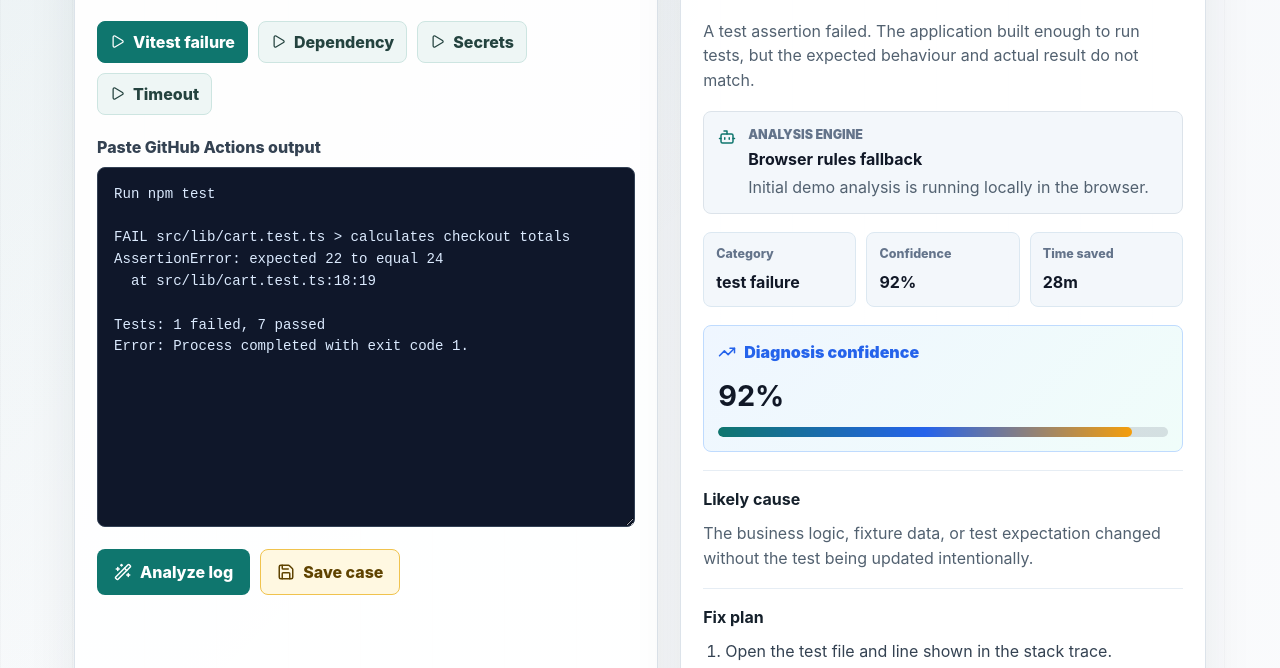
Scenario: CI Doctor app › analyzes custom pasted logs and handles an empty log
(page scrolled)
Replace the text in the text box labelled "Paste GitHub Actions output" with "Missing required environment variable STRIPE_SECRET_KEY" at x=366, y=347, box [97, 167, 635, 527]
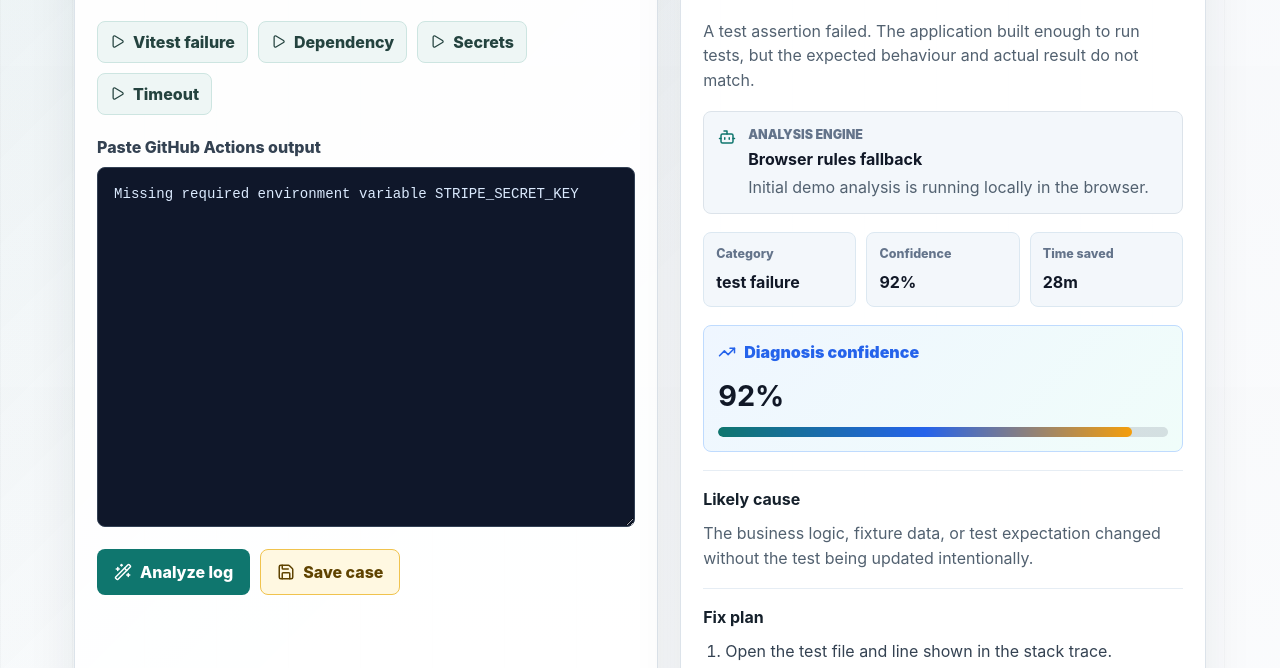
Click the button "Analyze log".
click(174, 572)  # box [97, 549, 250, 595]
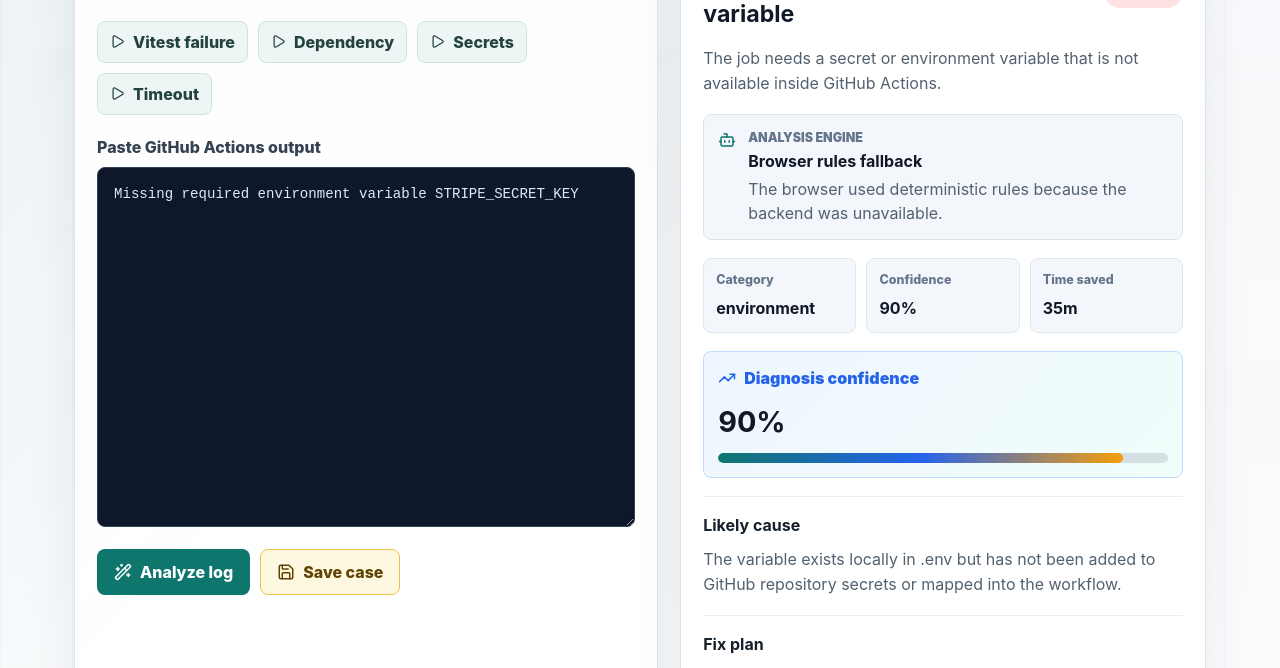
Clear the text box labelled "Paste GitHub Actions output" at x=366, y=347, box [97, 167, 635, 527]
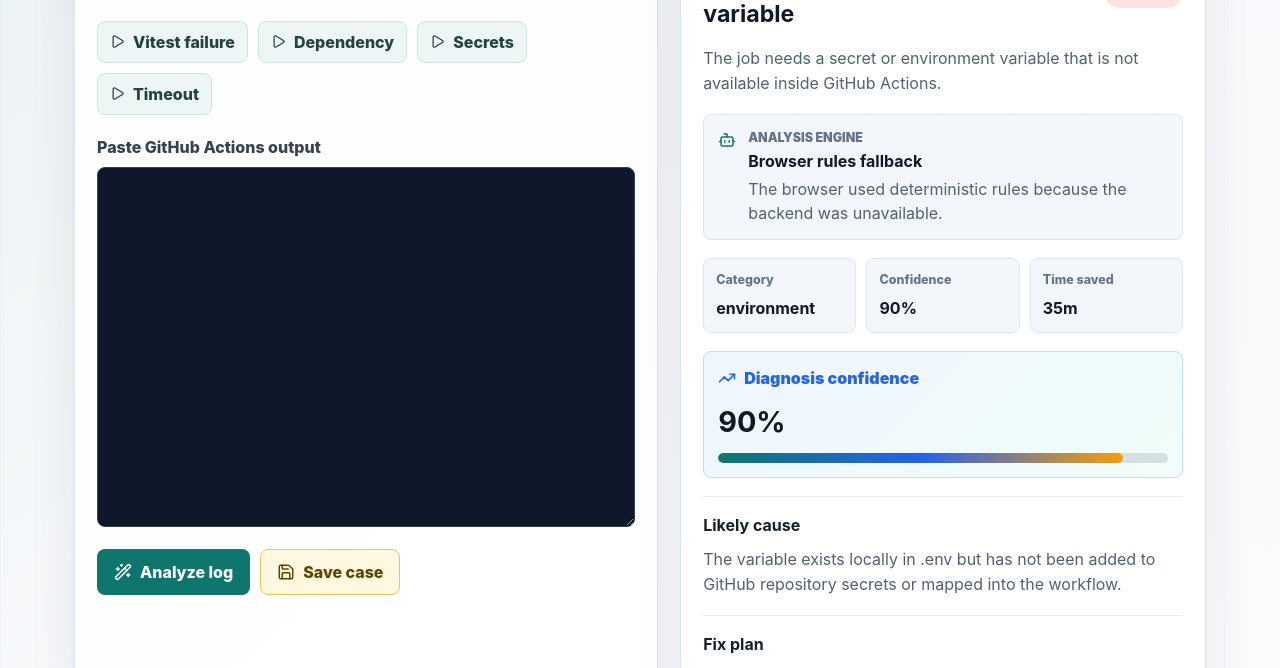
Click the button "Analyze log".
click(174, 572)  # box [97, 549, 250, 595]
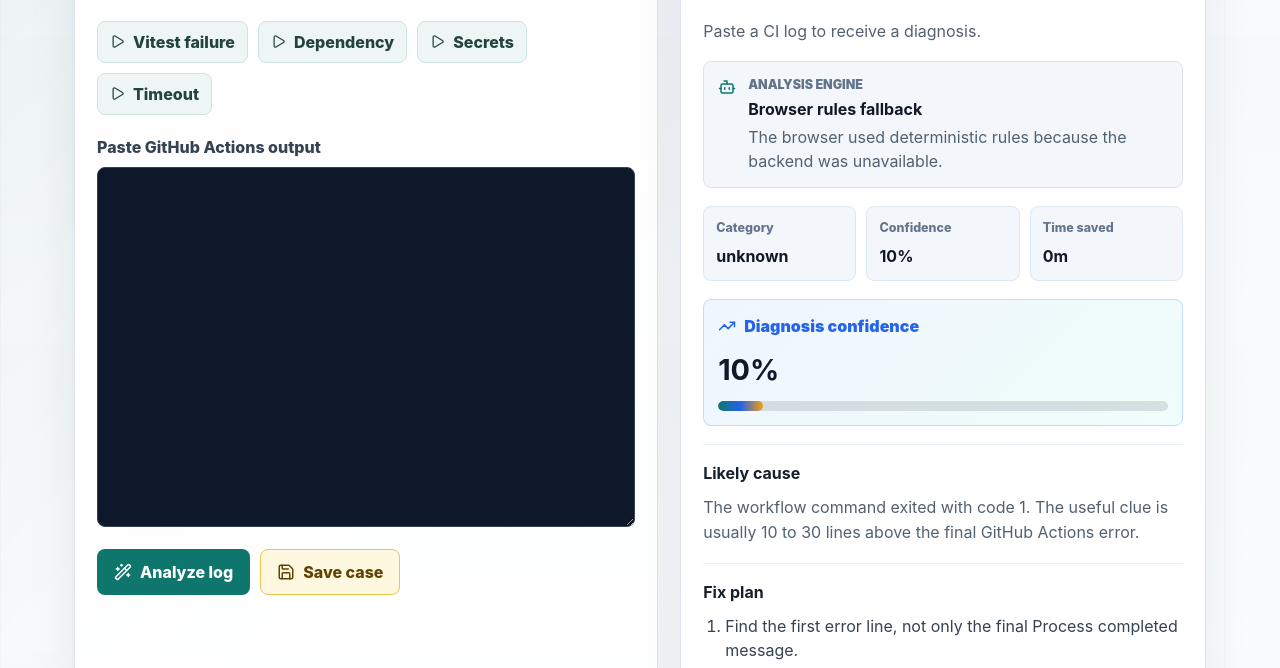
expect the text "Paste a CI log to receive a diagnosis." is shown: met, box [703, 21, 981, 41]
